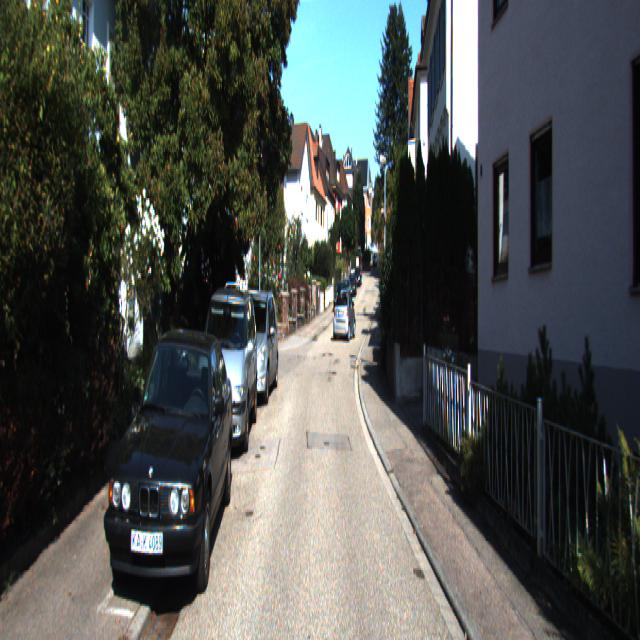Car: (95, 319, 236, 630), (194, 279, 260, 467), (228, 287, 280, 408), (333, 288, 356, 342)
